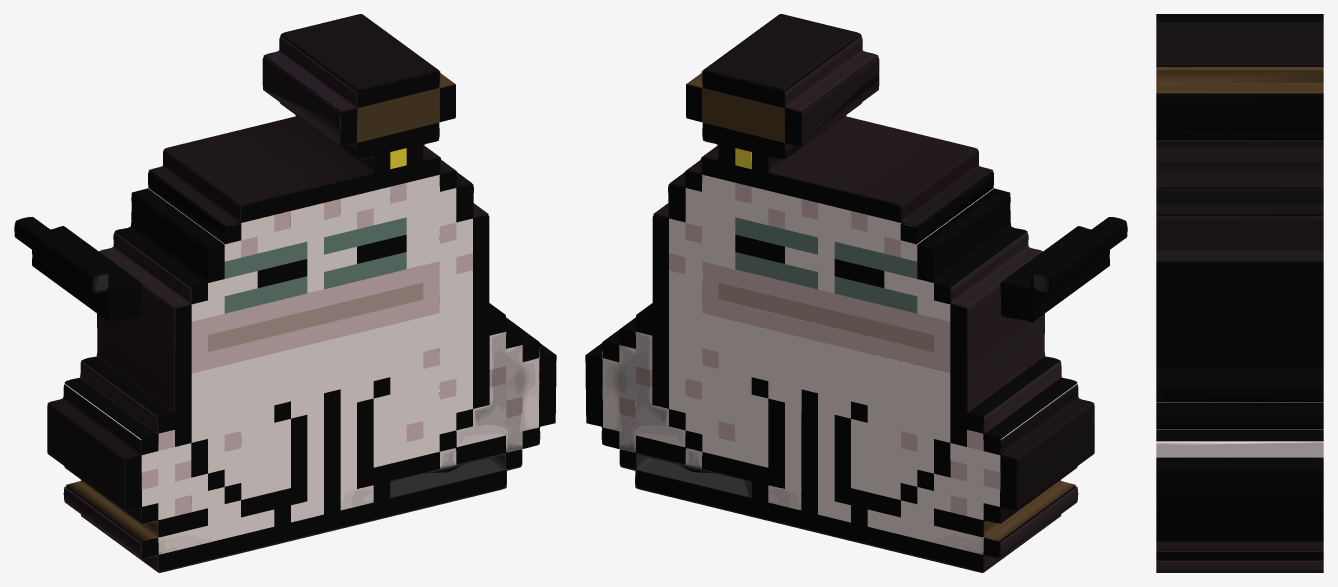
Rendered from Toadz_3974.glb.
3 views of the same model, side by side, from view 1: azimuth 30°, elevation 25°; view 2: azimuth 150°, elevation 25°; view 3: azimuth 270°, elevation 25° (orthographic). The views are drawn at different scales.
Parts seen in each view (by area): view 1: Curve; view 2: Curve; view 3: Curve.
Boxes of the visible parts, x1=… form: Curve: x1=14, y1=14, x2=556, y2=572; Curve: x1=585, y1=14, x2=1127, y2=572; Curve: x1=1156, y1=14, x2=1323, y2=572.
Bounding box in the file's own units: 3.5 × 3.13 × 1.
